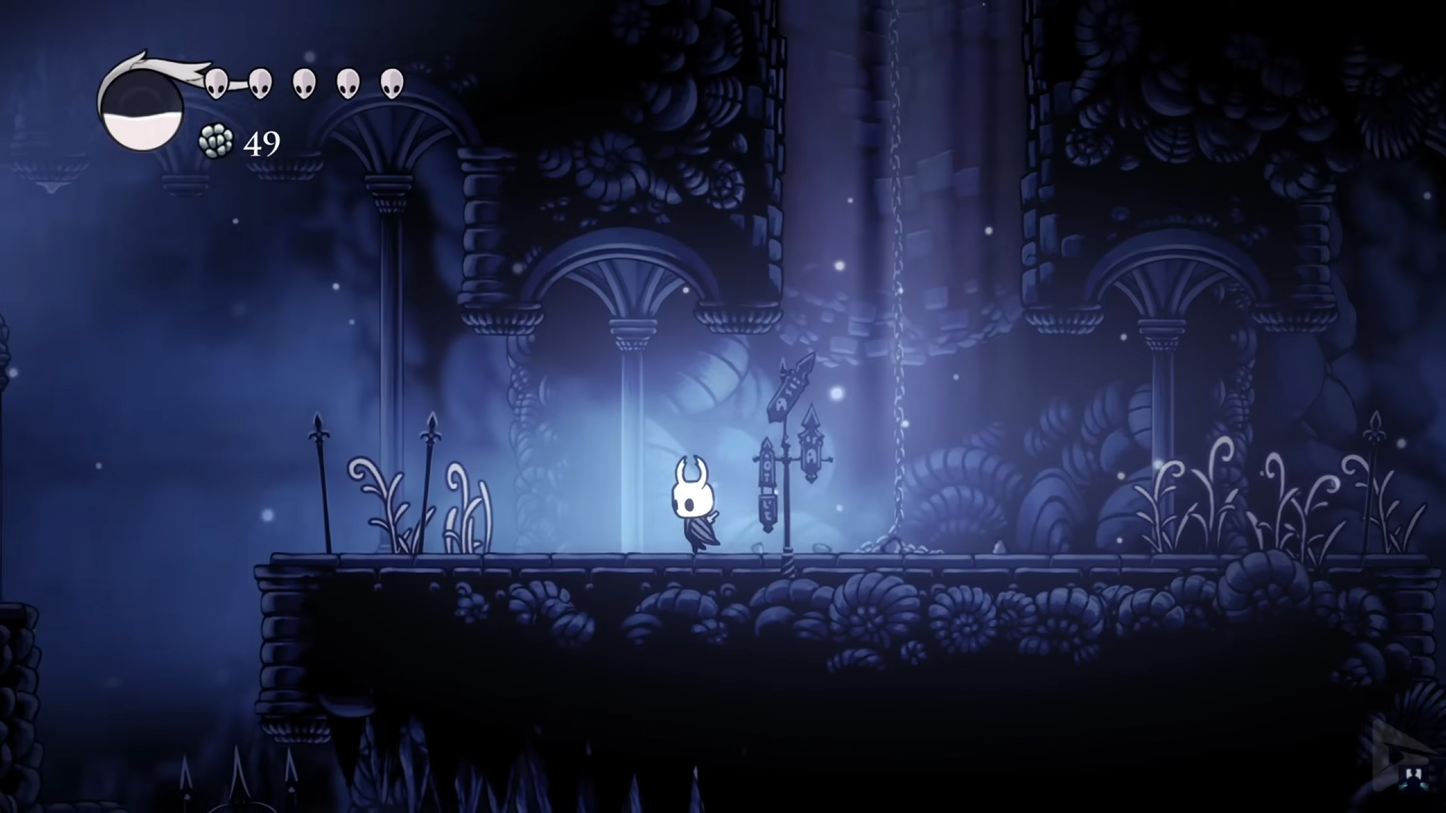HK: (667, 451, 721, 554)
